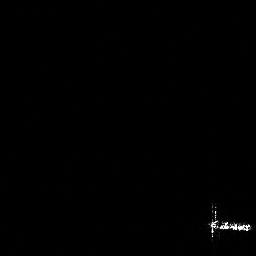ship: (203, 200, 254, 240)
